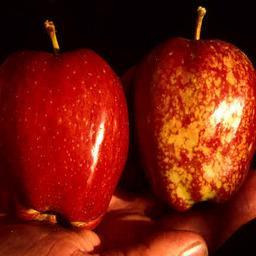apple: (0, 50, 130, 230), (126, 33, 251, 211)
